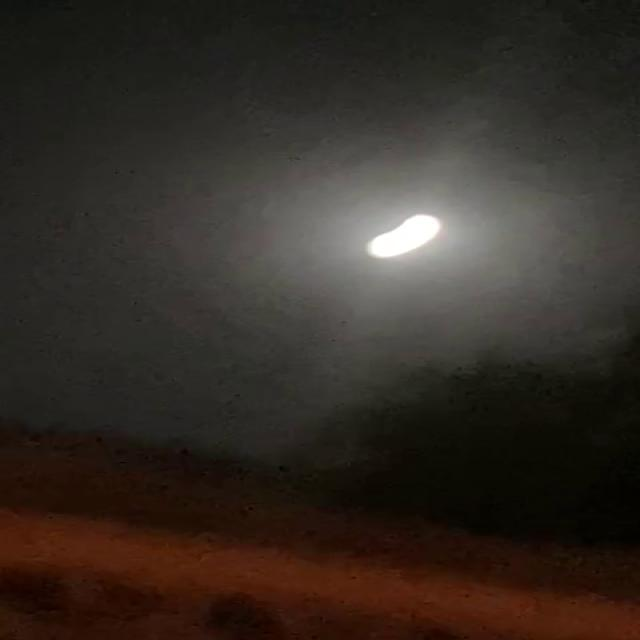moon: (368, 207, 446, 252)
